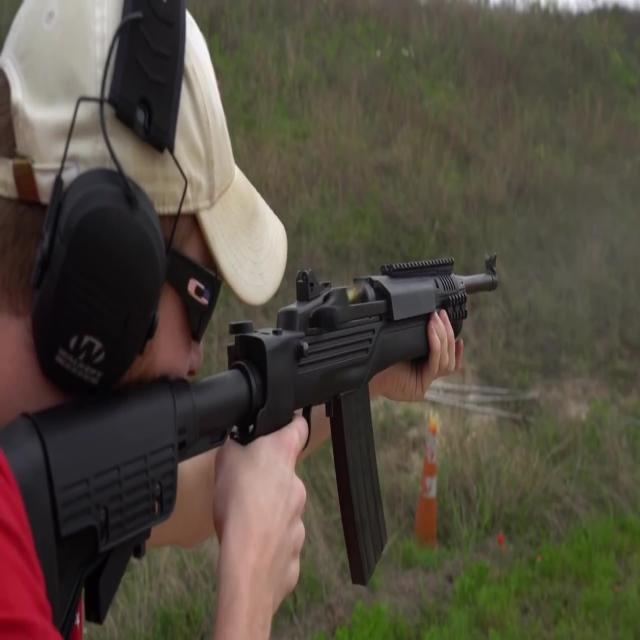Weapon: (0, 249, 603, 640)
